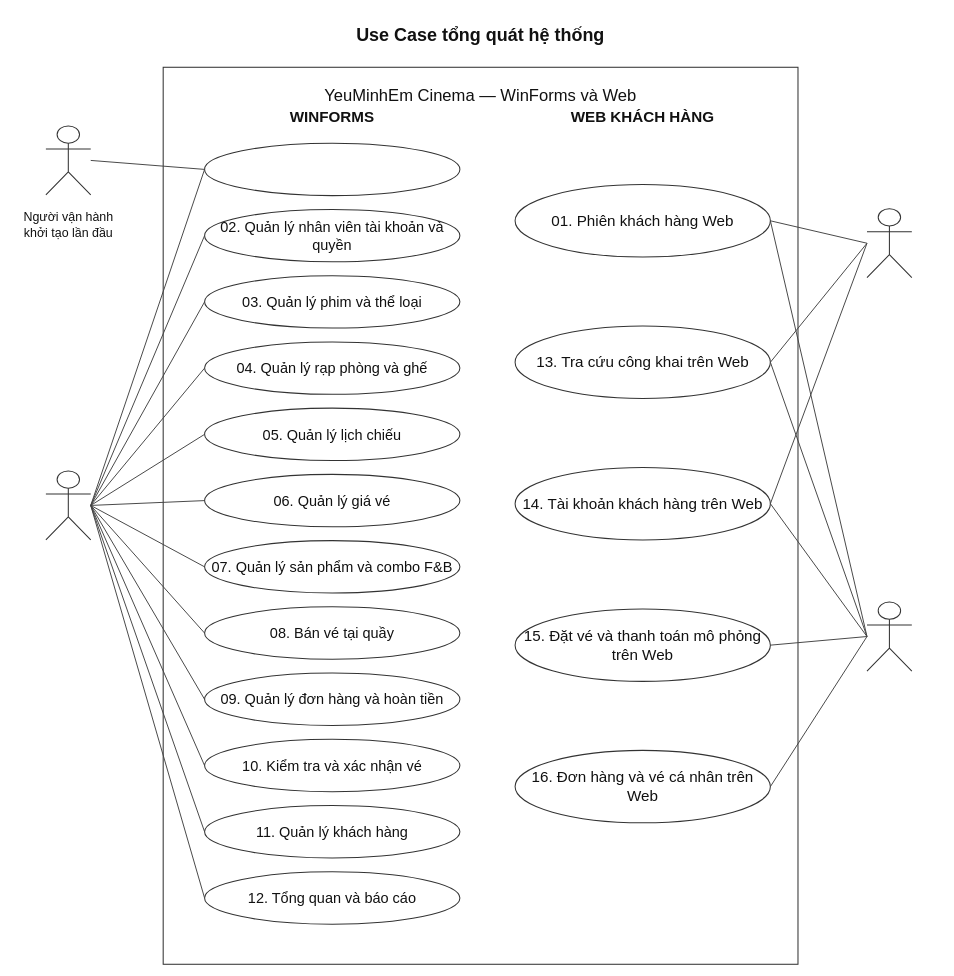
Some shapes in this 954 by 976 pixel diagram are drawn without their labels. The shapes that lost their labels are listed below. From the top down, each one's centre as x and y in pixels, then its label:
At [332,169]: "01. Đăng nhập và phiên làm việc".
At [889,243]: "Khách truy cập chưa đăng nhập".
At [68,505]: "Nhân sự có quyền tương ứng".
At [889,636]: "Khách hàng đã đăng nhập".
